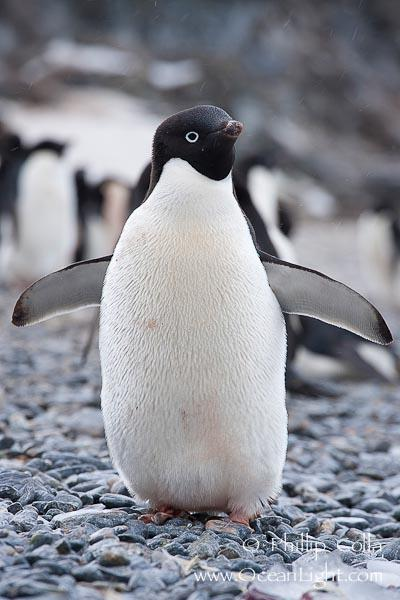Penguin: (12, 105, 396, 523)
